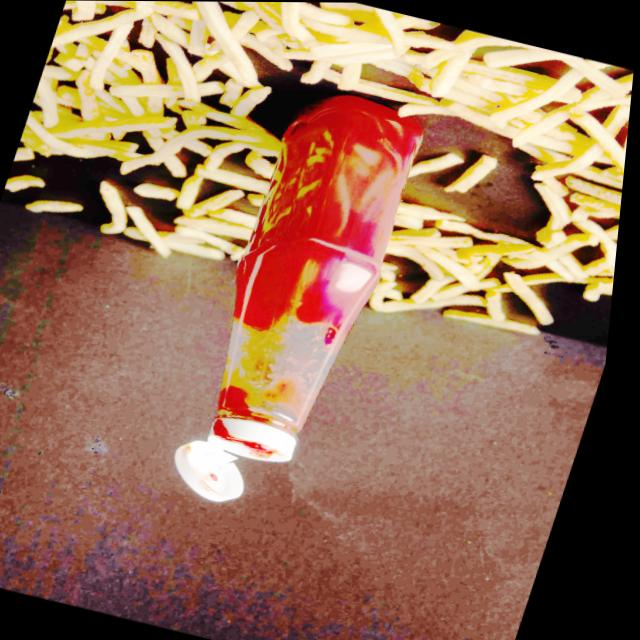french fries: (361, 27, 638, 364), (0, 20, 301, 269), (48, 0, 459, 119)
ketchup: (167, 80, 439, 481)
